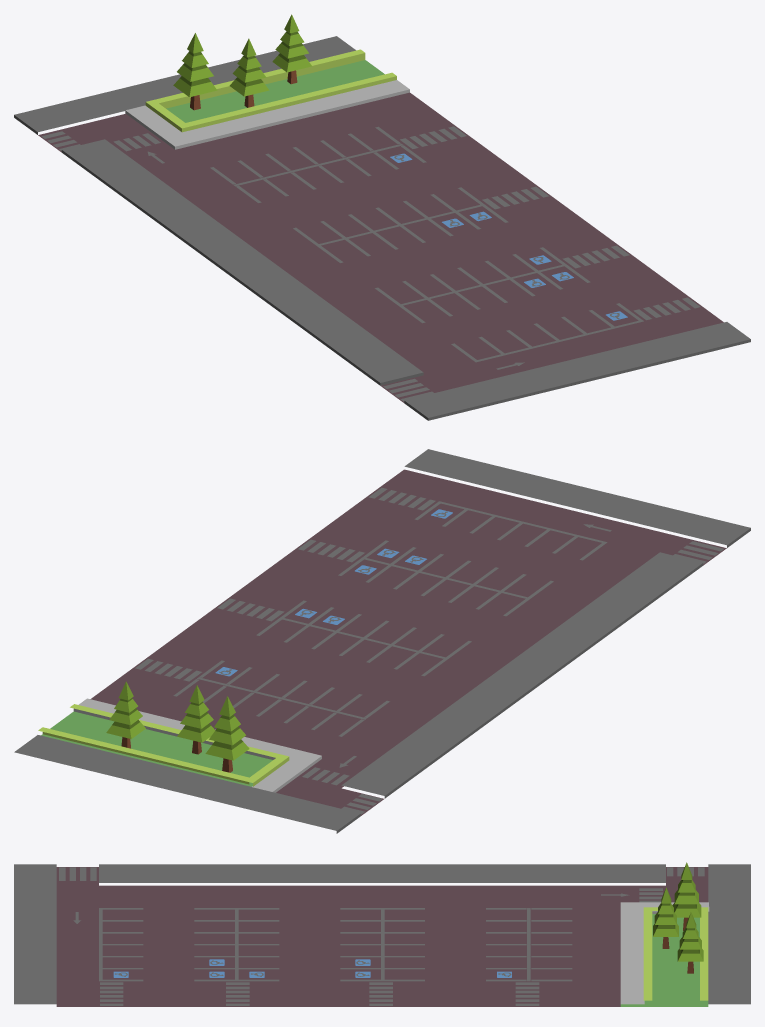
Rendered from parking_lvl_7.FBX.
3 renders of one model, top to bottom at view 1: azimuth 30°, elevation 25°; view 2: azimuth 150°, elevation 25°; view 3: azimuth 270°, elevation 25°, orthographic. The views are drawn at different scales.
Parts seen in each view (by area): view 1: parking_lvl_7; view 2: parking_lvl_7; view 3: parking_lvl_7.
Boxes of the visible parts, x1,y1,x2,y2 form: parking_lvl_7: [14, 14, 750, 420]; parking_lvl_7: [14, 449, 750, 833]; parking_lvl_7: [14, 862, 750, 1006].
Size of the model in its own units: 5852 by 1436 by 13000.
